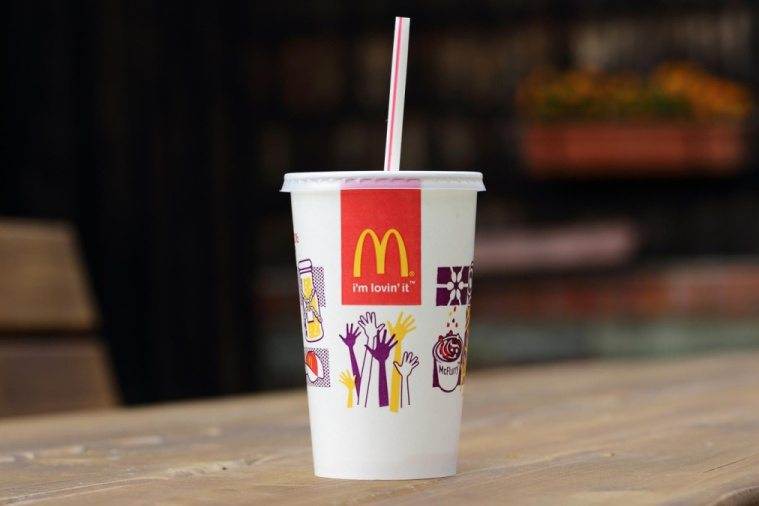mcdonalds: (351, 227, 412, 282)
